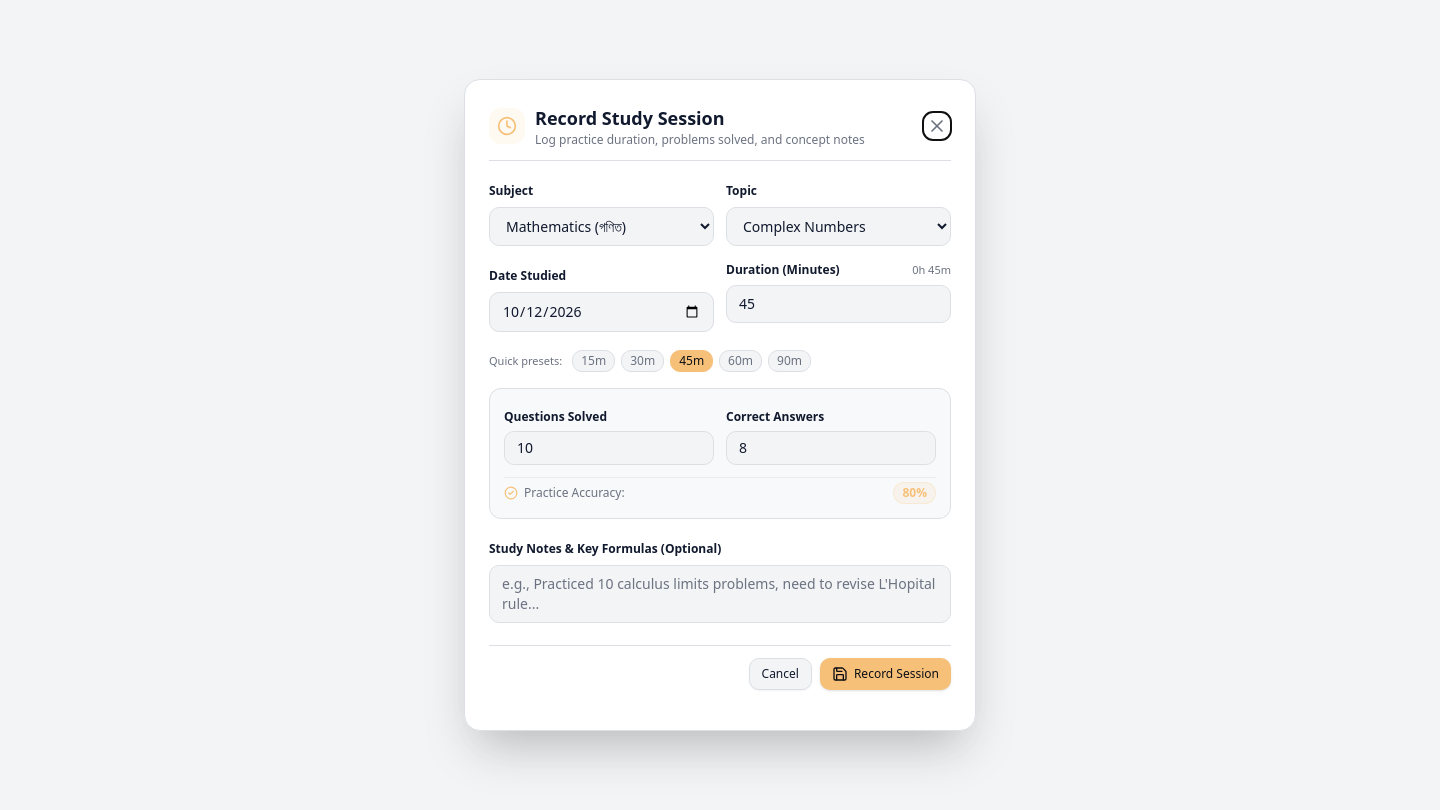
it: RecordSessionModal › updates accuracy preview when questions and correct answers change
The image size is (1440, 810).
Replace the text in the number field labelled "Questions Solved" with "20" at [609, 448], box [504, 431, 714, 465]
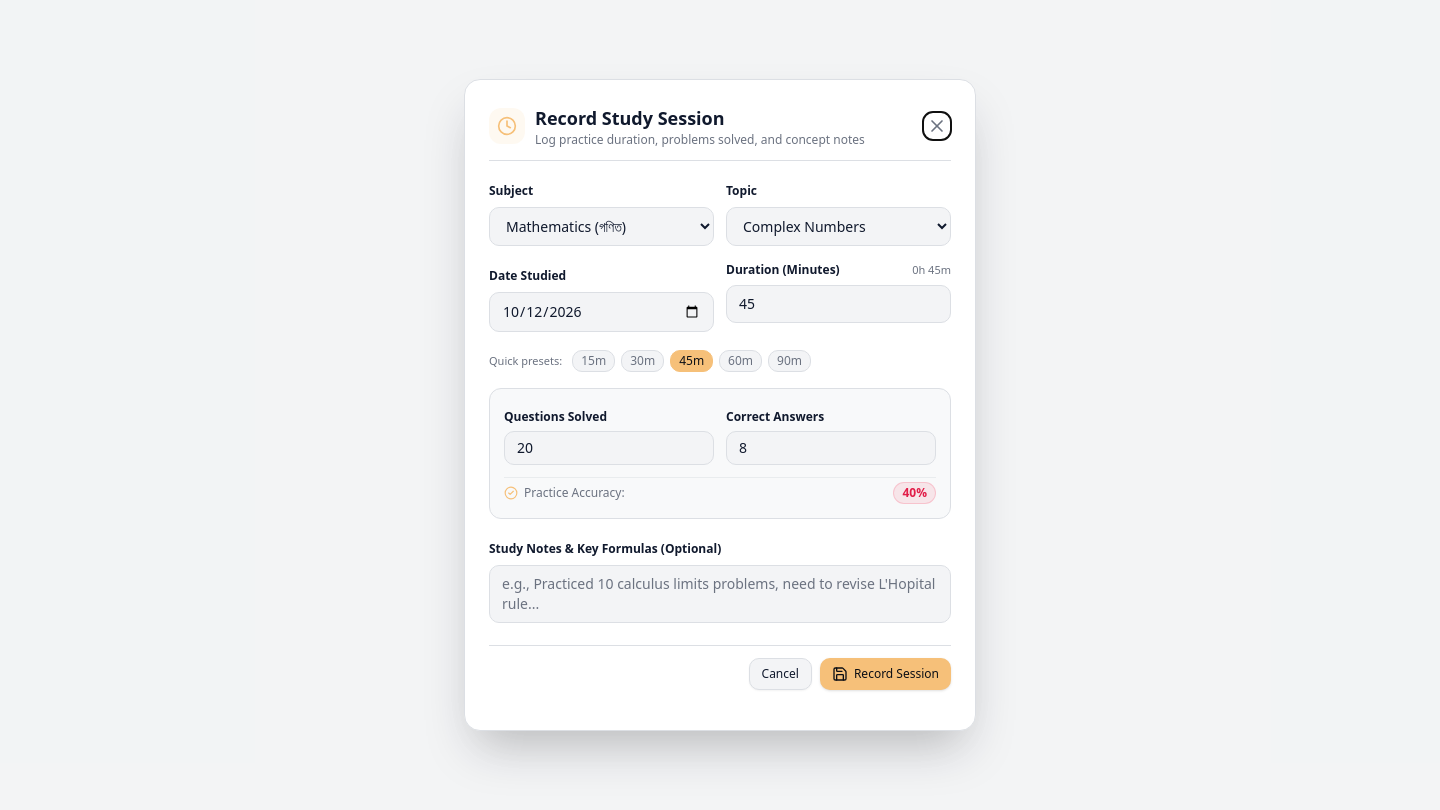
Replace the text in the number field labelled "Correct Answers" with "15" at [831, 448], box [726, 431, 936, 465]
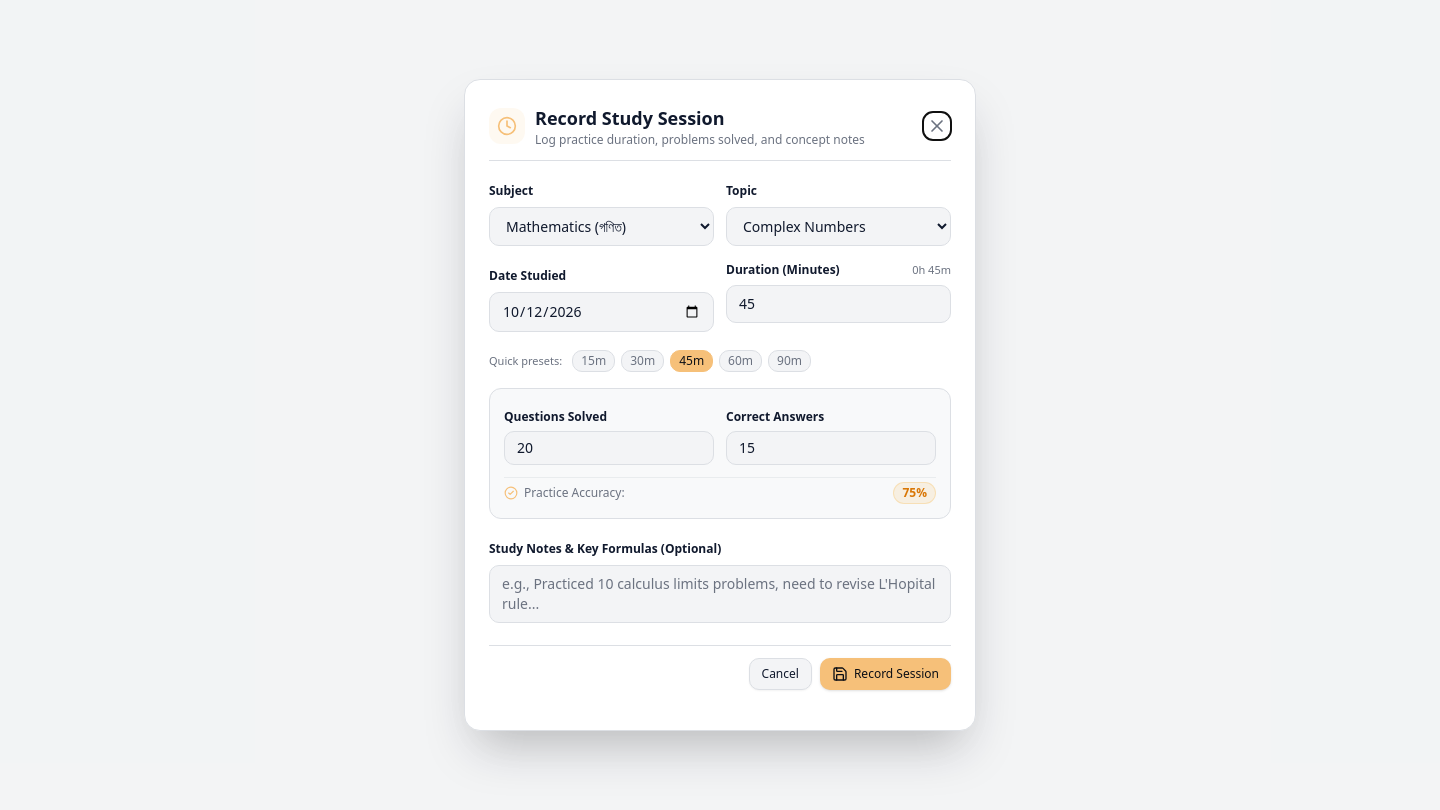
Result: the text "75%" is shown at [894, 482, 936, 504]
